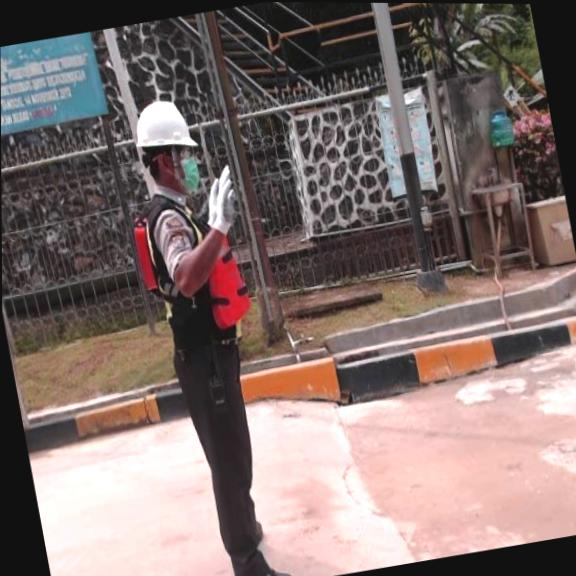safety_vest: (128, 204, 259, 341)
